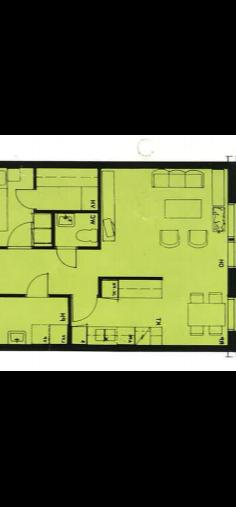bathroom: (54, 215, 97, 247)
door: (6, 220, 36, 254), (72, 294, 100, 326), (24, 272, 51, 300), (12, 184, 38, 212), (54, 245, 81, 270), (226, 240, 236, 270)
perimeter: (0, 161, 236, 354)
window: (221, 200, 236, 242), (225, 293, 236, 334)
